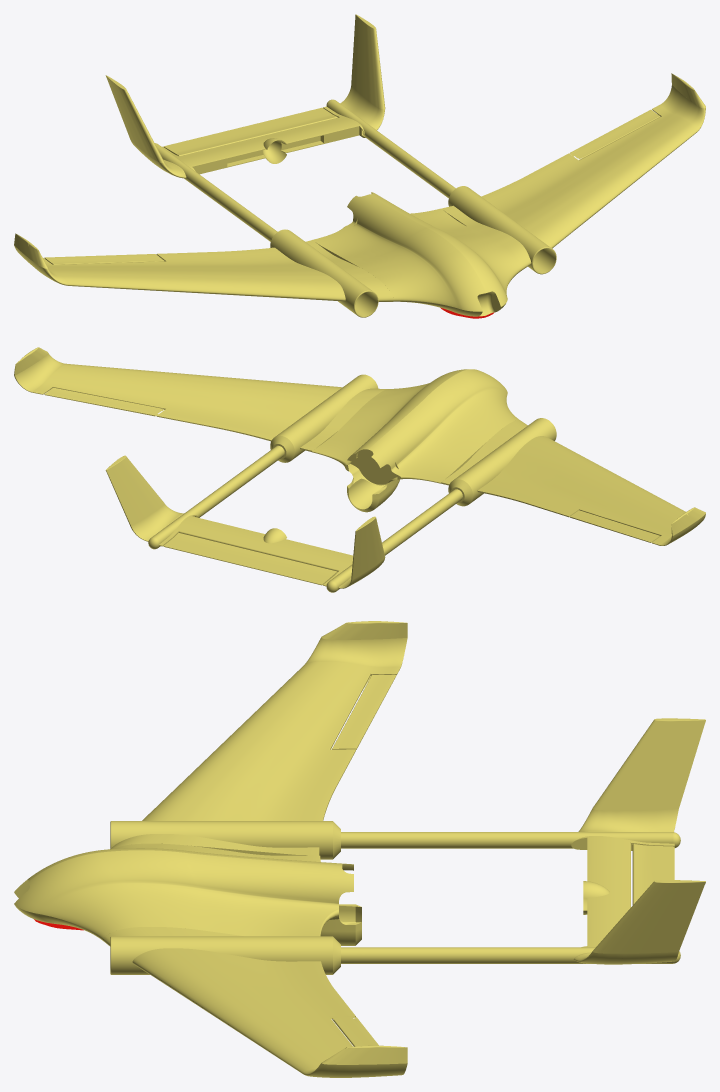
File: Volt FBX.fbx
3 renders of one model, top to bottom at view 1: azimuth 30°, elevation 25°; view 2: azimuth 150°, elevation 25°; view 3: azimuth 270°, elevation 25°, orthographic. The views are drawn at different scales.
Visible parts, largest first — view 1: Wings, Tail, Pipes, Flaps; view 2: Wings, Tail, Pipes, Flaps; view 3: Wings, Tail, Pipes, Flaps.
Part boxes in pixels (x1,y1,x2,y2): Wings: (14, 73, 705, 316); Tail: (105, 14, 385, 178); Pipes: (163, 110, 556, 317); Flaps: (44, 109, 660, 264); Wings: (14, 347, 705, 545); Tail: (105, 455, 385, 592); Pipes: (166, 374, 556, 574); Flaps: (44, 387, 660, 542); Wings: (14, 621, 407, 1077); Tail: (571, 718, 705, 964); Pipes: (110, 821, 634, 974); Flaps: (332, 674, 396, 1046).
Size of the model in its own units: 1.03 by 0.16 by 0.7.
